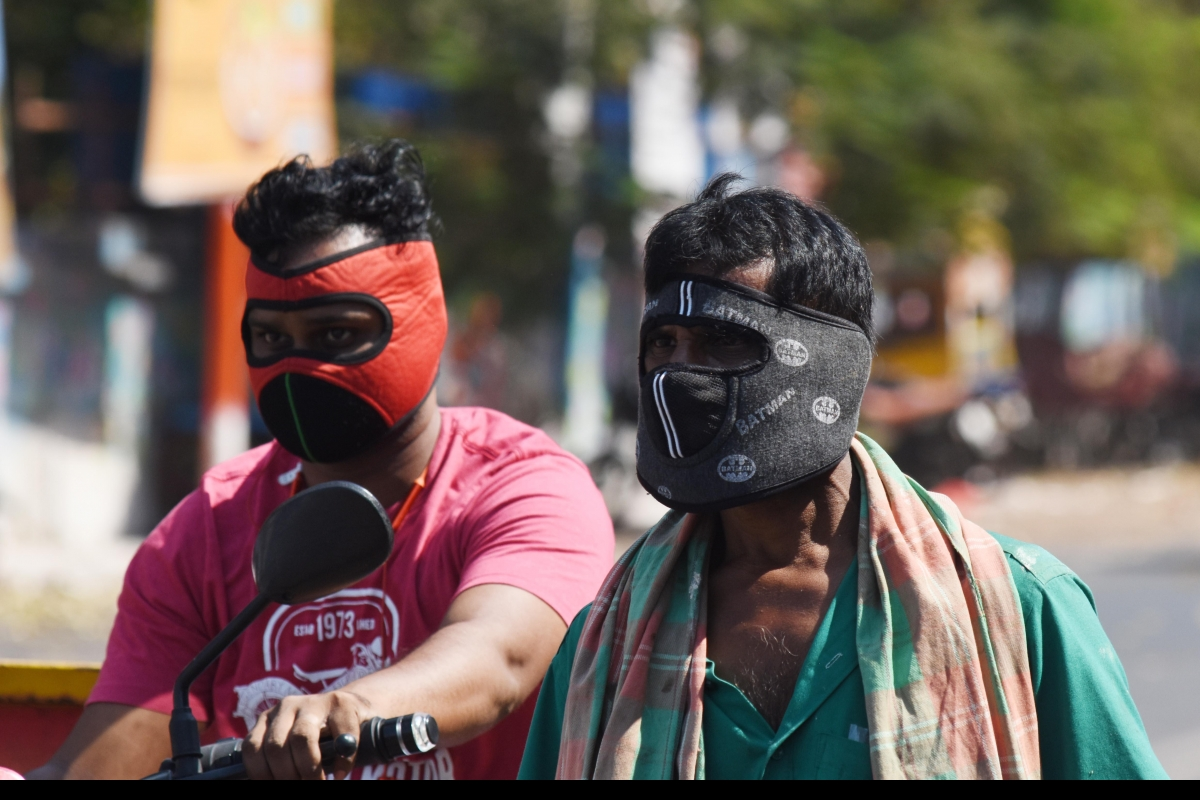with_mask: (623, 235, 880, 524), (221, 221, 448, 472)
